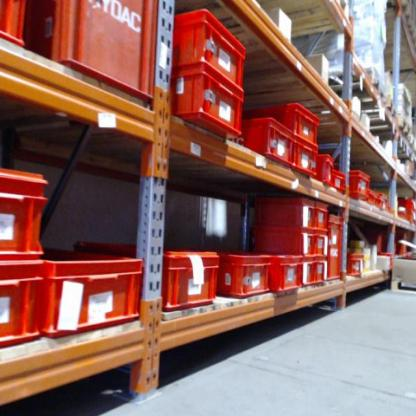pallet: (200, 2, 353, 50), (382, 113, 415, 142), (376, 86, 399, 124)
small_load_carrier: (34, 3, 157, 106), (40, 252, 152, 346), (67, 250, 219, 309), (161, 8, 250, 96), (169, 68, 244, 139), (1, 159, 56, 255), (0, 259, 44, 353), (250, 101, 322, 149), (218, 241, 269, 306), (233, 116, 292, 165), (243, 224, 314, 255), (248, 196, 314, 229), (323, 214, 349, 280), (2, 3, 35, 52), (287, 141, 320, 180), (271, 253, 302, 293), (346, 167, 370, 203), (314, 150, 332, 185), (311, 202, 330, 233), (348, 244, 366, 275), (299, 255, 315, 288), (311, 232, 329, 260), (333, 169, 347, 199), (392, 195, 416, 212), (311, 261, 329, 282), (368, 188, 374, 208), (408, 213, 416, 228)
